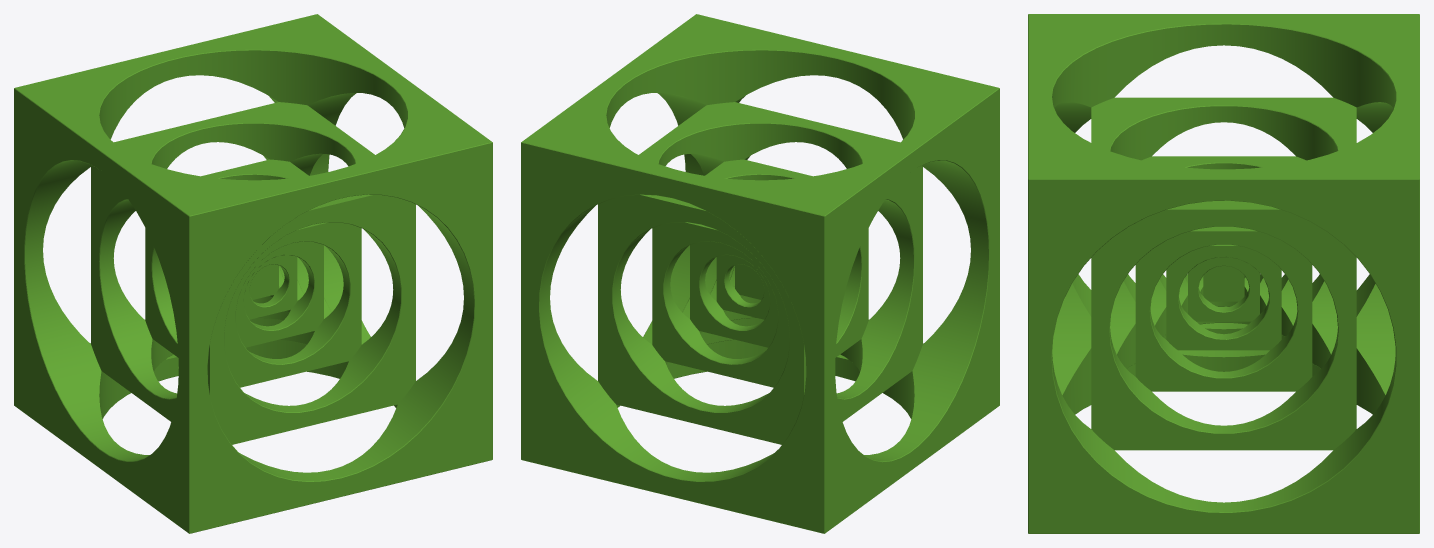
The picture shows the model from 3 angles, left to right: view 1: azimuth 30°, elevation 25°; view 2: azimuth 150°, elevation 25°; view 3: azimuth 270°, elevation 25°; orthographic projection. The views are drawn at different scales.
Parts seen in each view (by area): view 1: Cube_Opaque(124_60_4); view 2: Cube_Opaque(124_60_4); view 3: Cube_Opaque(124_60_4).
Boxes of the visible parts, bbox=[...] form: Cube_Opaque(124_60_4): bbox=[14, 14, 492, 533]; Cube_Opaque(124_60_4): bbox=[521, 14, 999, 533]; Cube_Opaque(124_60_4): bbox=[1028, 14, 1419, 533].
Bounding box in the file's own units: 0.0498 × 0.0498 × 0.0498.
